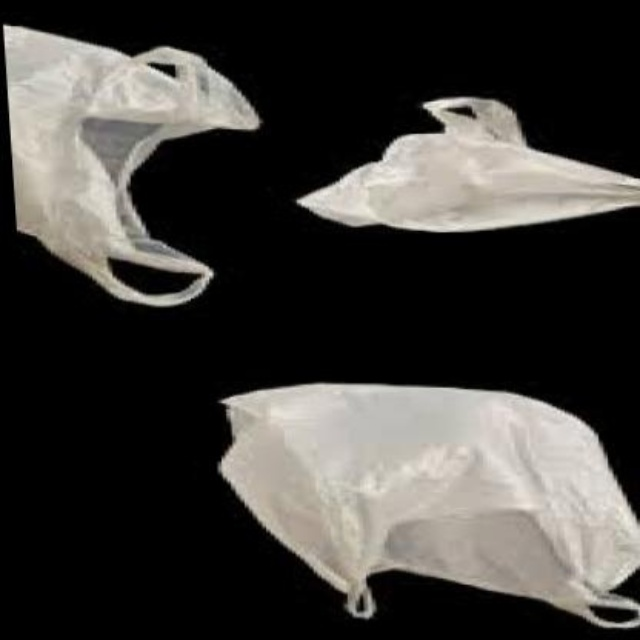trash: (220, 385, 638, 626), (5, 26, 257, 305), (298, 97, 638, 231)
